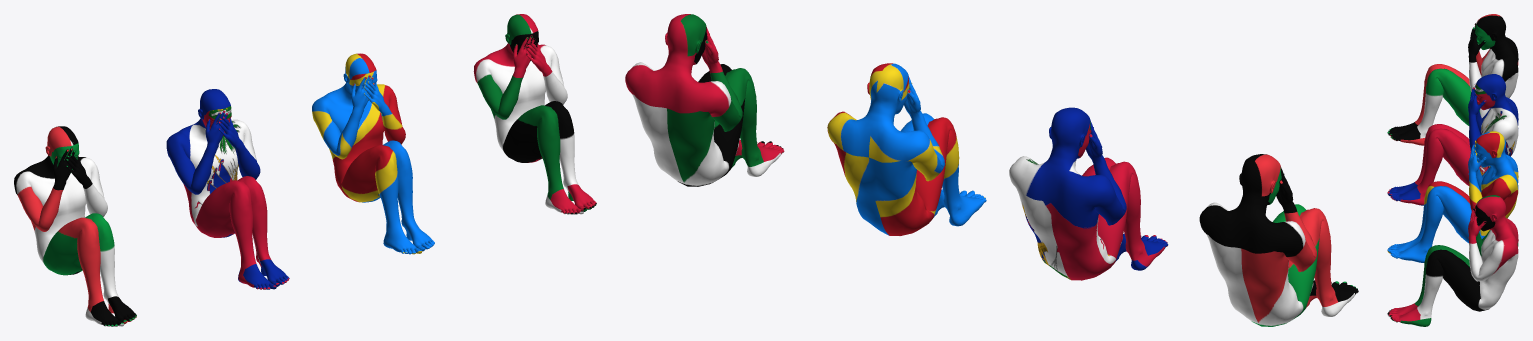
Rendered from congo.glb.
3 views of the same model, side by side, from view 1: azimuth 30°, elevation 25°; view 2: azimuth 150°, elevation 25°; view 3: azimuth 270°, elevation 25° (orthographic). The views are drawn at different scales.
Visible parts, largest first — view 1: congo.001, haiti.001, palestine.001, sudan.001; view 2: sudan.001, haiti.001, congo.001, palestine.001; view 3: sudan.001, congo.001, palestine.001, haiti.001.
Part boxes in pixels (<box>): congo.001: <box>312,53,434,254</box>; haiti.001: <box>166,89,289,289</box>; palestine.001: <box>14,126,136,326</box>; sudan.001: <box>473,14,596,214</box>; sudan.001: <box>625,14,784,186</box>; haiti.001: <box>1009,107,1168,280</box>; congo.001: <box>827,63,986,235</box>; palestine.001: <box>1199,154,1358,326</box>; sudan.001: <box>1387,195,1518,326</box>; congo.001: <box>1387,131,1518,262</box>; palestine.001: <box>1387,14,1518,145</box>; haiti.001: <box>1387,74,1518,205</box>.
Size of the model in its own units: 0.5195 by 0.1433 by 0.1352.
Materials: 4 (4 with a texture image).
